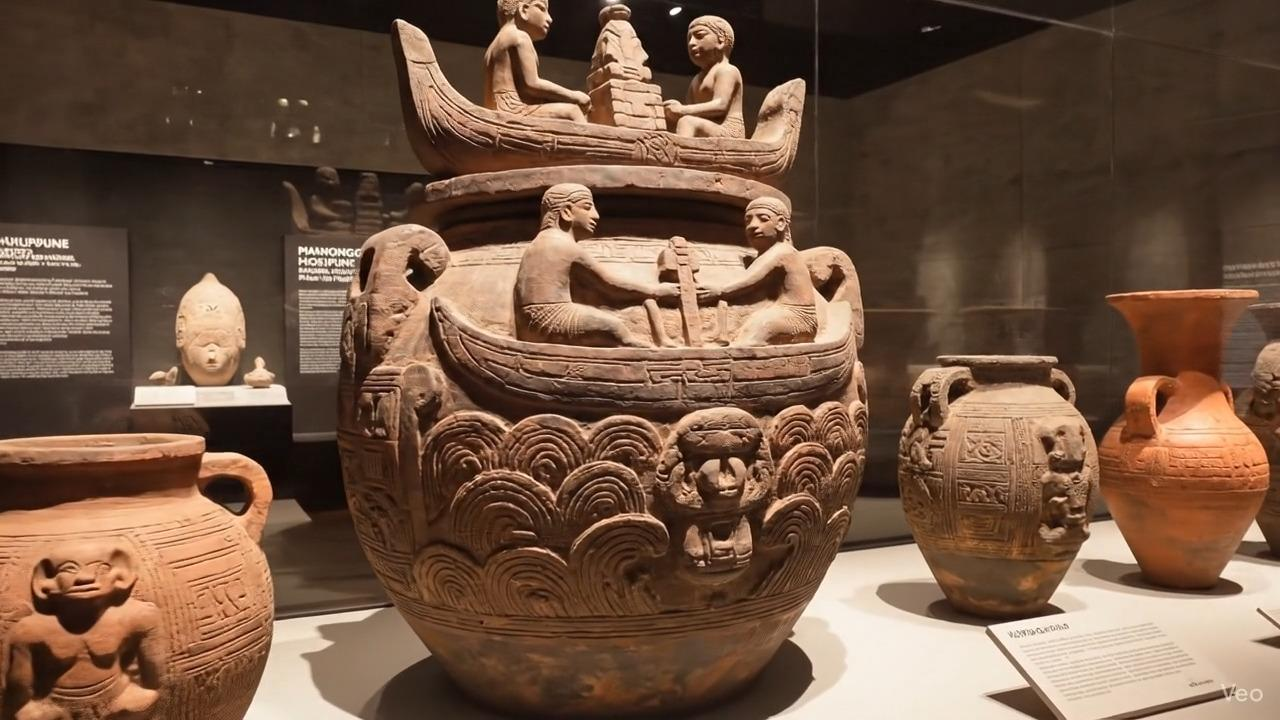manunggul_jar: (325, 0, 878, 720)
